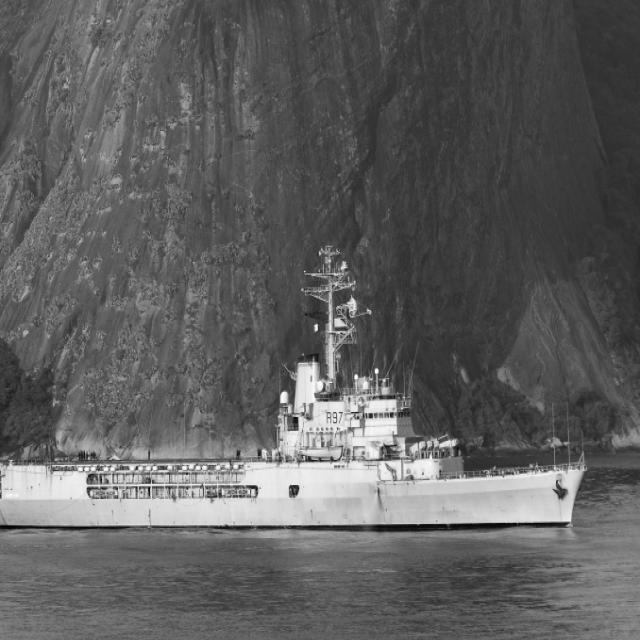Portanaves: (1, 242, 592, 535)
